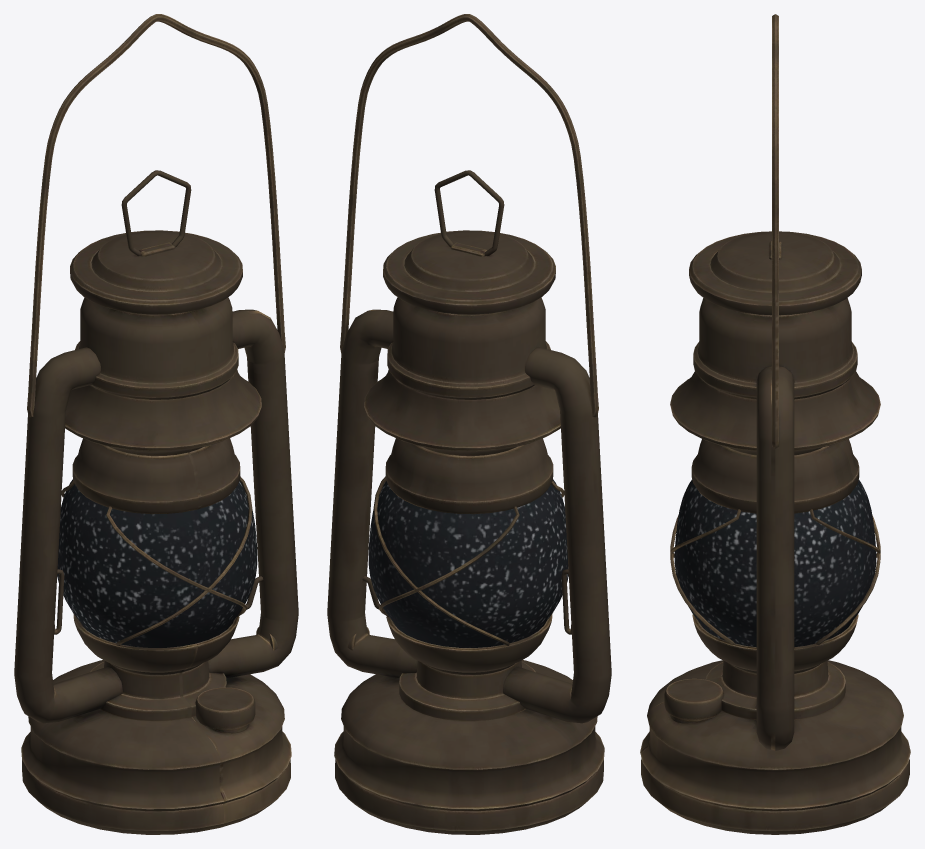
The model's file is hurricane-lantern_final.glb.
The picture shows the model from 3 angles, left to right: view 1: azimuth 30°, elevation 25°; view 2: azimuth 150°, elevation 25°; view 3: azimuth 270°, elevation 25°; orthographic projection.
Parts seen in each view (by area): view 1: SM_Lantern, SM_Lantern_Globe; view 2: SM_Lantern, SM_Lantern_Globe; view 3: SM_Lantern, SM_Lantern_Globe.
Boxes of the visible parts, x1,y1,x2,y2 form: SM_Lantern: [14, 14, 298, 834]; SM_Lantern_Globe: [57, 479, 257, 647]; SM_Lantern: [327, 14, 611, 834]; SM_Lantern_Globe: [368, 479, 568, 647]; SM_Lantern: [640, 14, 910, 834]; SM_Lantern_Globe: [674, 479, 876, 647].
Bounding box in the file's own units: 0.1691 × 0.4453 × 0.1422.
Materials: 2 (2 with a texture image).
